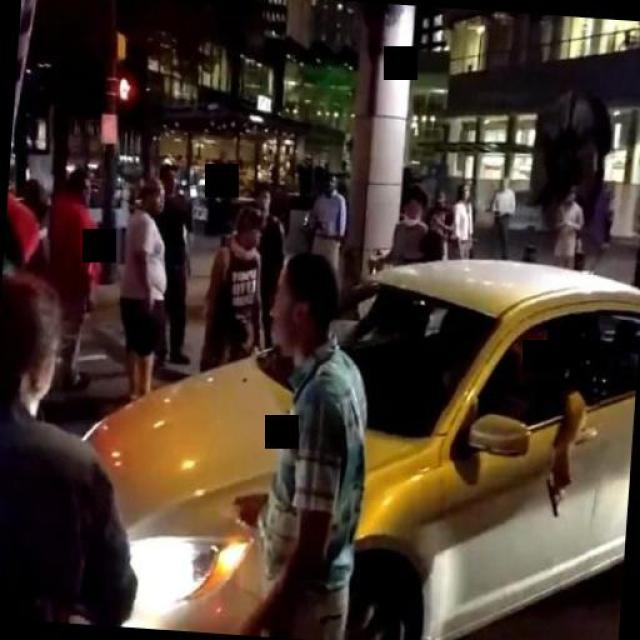gun: (540, 459, 574, 520)
